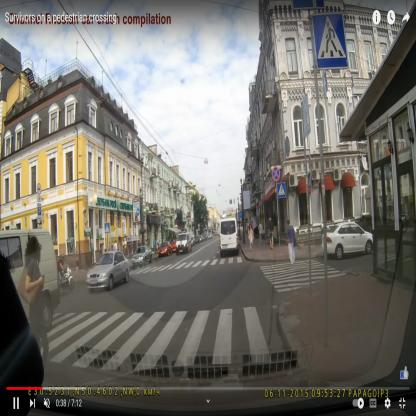crosswalk: (41, 304, 271, 370), (259, 262, 348, 294), (130, 256, 245, 274)
